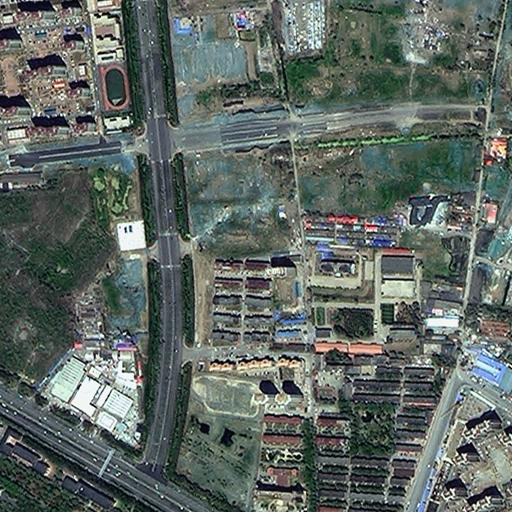school: (89, 11, 133, 133)
